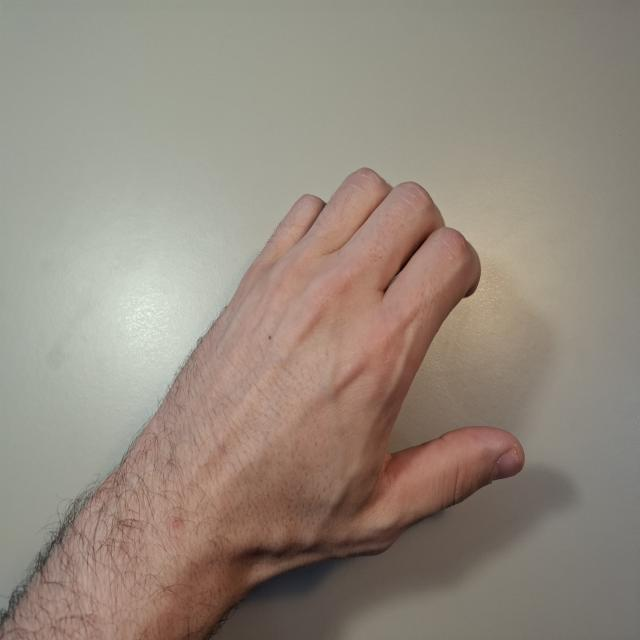glove_off: (167, 165, 526, 580)
